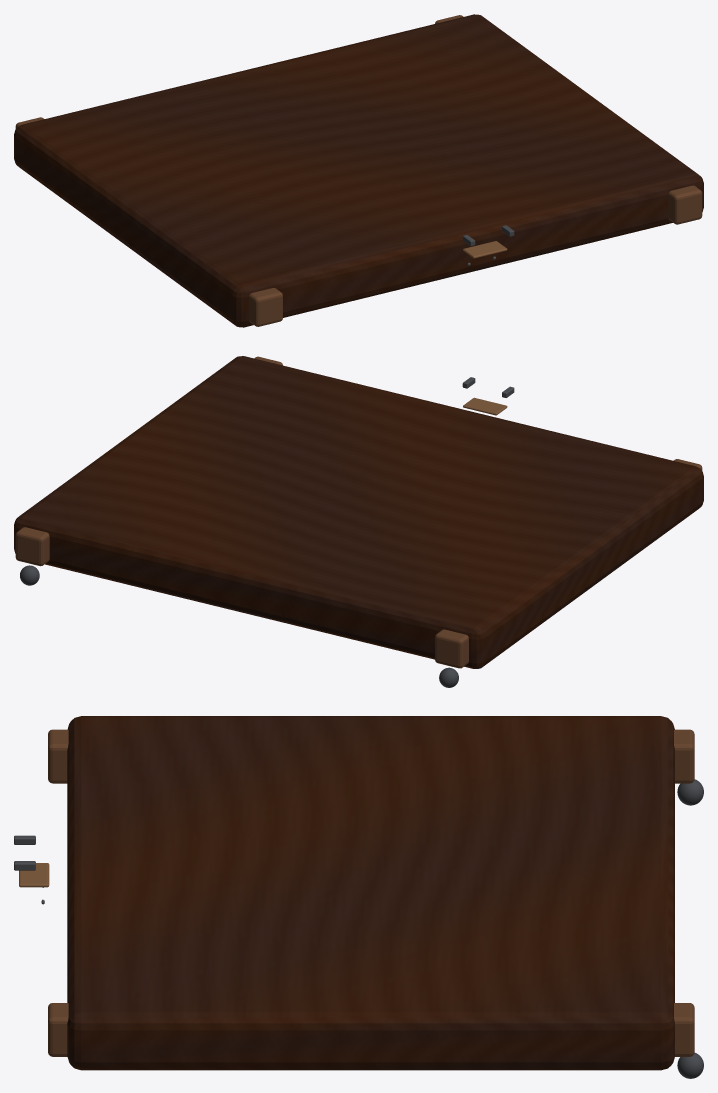
The model's file is ledger_board.glb.
The picture shows the model from 3 angles, top to bottom: view 1: azimuth 30°, elevation 25°; view 2: azimuth 150°, elevation 25°; view 3: azimuth 270°, elevation 25°; orthographic projection. The views are drawn at different scales.
Visible parts, largest first — view 1: Ledger_Frame, V7_Ledger_FramePost.001, V7_Ledger_FramePost; view 2: Ledger_Frame, V7_Ledger_FramePost.001, V7_Ledger_FramePost; view 3: Ledger_Frame, V7_Ledger_FramePost, V7_Ledger_FramePost.001, ledger_board_detail_trim.
Part boxes in pixels (box(x1,y1,x2,y2)): Ledger_Frame: box(14, 14, 703, 327); V7_Ledger_FramePost.001: box(435, 15, 702, 224); V7_Ledger_FramePost: box(15, 117, 282, 326); Ledger_Frame: box(14, 356, 703, 668); V7_Ledger_FramePost.001: box(15, 356, 282, 566); V7_Ledger_FramePost: box(435, 459, 702, 668); Ledger_Frame: box(67, 716, 674, 1070); V7_Ledger_FramePost: box(48, 729, 694, 783); V7_Ledger_FramePost.001: box(48, 1003, 694, 1056); ledger_board_detail_trim: box(19, 863, 49, 887).
Bounding box in the file's own units: 3.7 × 0.5236 × 3.52.
Materials: 9 (3 with a texture image).
